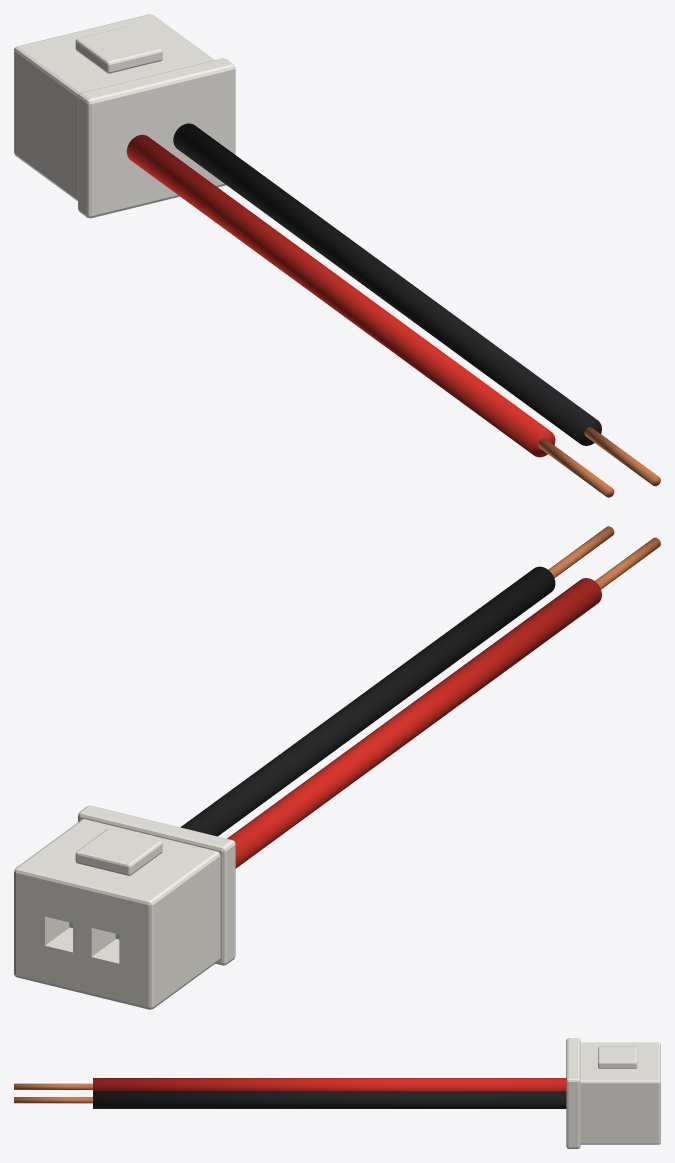
Rendered from wire-lead.glb.
3 views of the same model, one above another, from view 1: azimuth 30°, elevation 25°; view 2: azimuth 150°, elevation 25°; view 3: azimuth 270°, elevation 25° (orthographic). The views are drawn at different scales.
Visible parts, largest first — view 1: ph-lip, wire0, wire1, ph-housing, ph-latch, bare0, bare1; view 2: ph-housing, wire0, wire1, ph-lip, ph-latch, bare0, bare1; view 3: wire1, ph-housing, wire0, ph-lip, ph-latch, bare0, bare1.
Boxes of the visible parts, left/top/right/bottom form: ph-lip: left=78, top=58, right=235, bottom=218; wire0: left=126, top=134, right=555, bottom=457; wire1: left=173, top=123, right=601, bottom=445; ph-housing: left=14, top=14, right=214, bottom=201; ph-latch: left=75, top=26, right=162, bottom=73; bare0: left=538, top=438, right=614, bottom=497; bare1: left=584, top=427, right=660, bottom=486; ph-housing: left=14, top=819, right=220, bottom=1009; wire0: left=227, top=578, right=601, bottom=868; wire1: left=180, top=566, right=555, bottom=836; ph-lip: left=78, top=805, right=235, bottom=965; ph-latch: left=75, top=828, right=162, bottom=875; bare0: left=595, top=537, right=660, bottom=589; bare1: left=548, top=526, right=614, bottom=577; wire1: left=93, top=1091, right=566, bottom=1108; ph-housing: left=580, top=1042, right=660, bottom=1144; wire0: left=93, top=1078, right=566, bottom=1091; ph-lip: left=566, top=1038, right=580, bottom=1148; ph-latch: left=598, top=1046, right=637, bottom=1068; bare0: left=14, top=1083, right=92, bottom=1089; bare1: left=14, top=1097, right=92, bottom=1103.
Bounding box in the file's own units: 0.0064 × 0.0052 × 0.041.
